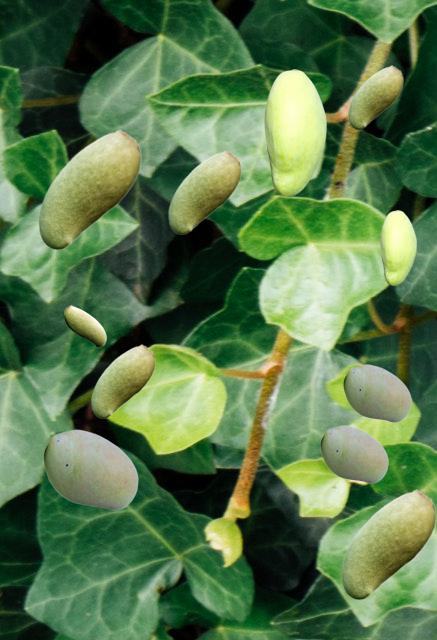green_mango: (38, 129, 140, 248), (341, 489, 435, 598), (264, 69, 325, 195), (43, 429, 137, 509), (168, 150, 240, 233), (91, 344, 154, 417), (343, 364, 410, 421), (320, 425, 387, 482), (348, 65, 402, 128), (380, 210, 415, 284), (64, 305, 105, 346)
